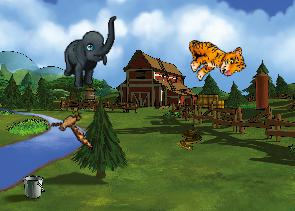eagle: (47, 105, 100, 150)
elephant: (61, 16, 120, 88)
tiger: (183, 28, 247, 86)
